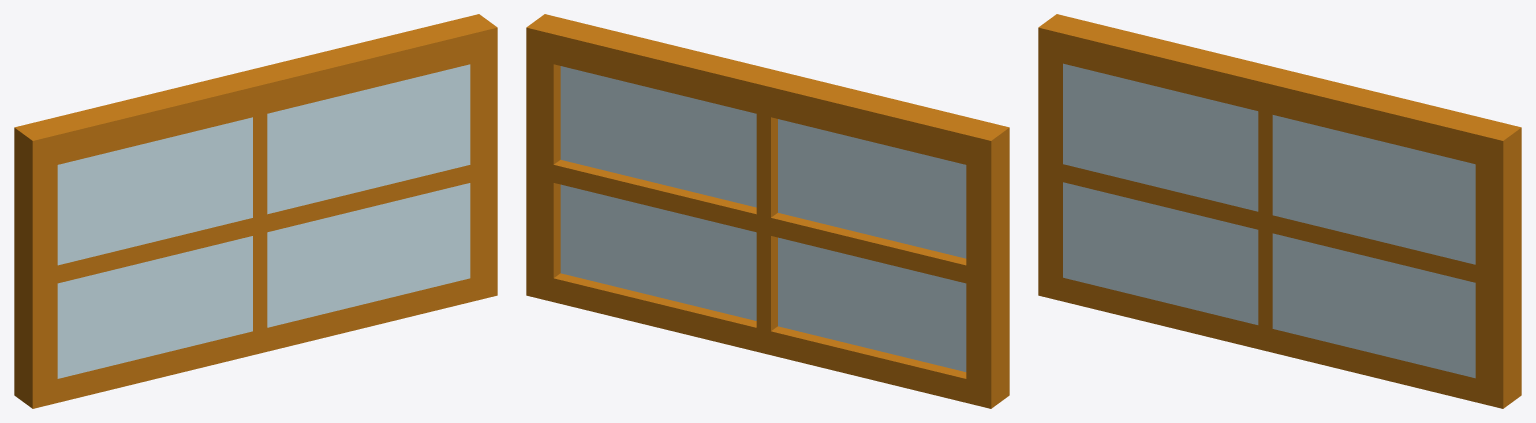
File: ventana5.obj
3 renders of one model, left to right at view 1: azimuth 30°, elevation 25°; view 2: azimuth 150°, elevation 25°; view 3: azimuth 330°, elevation 25°, orthographic.
Visible parts, largest first — view 1: pasted__pCube17 group37; view 2: pasted__pCube17 group37; view 3: pasted__pCube17 group37.
Part boxes in pixels (x1,y1,x2,y2): pasted__pCube17 group37: (14,14,497,408); pasted__pCube17 group37: (526,14,1009,408); pasted__pCube17 group37: (1038,14,1521,408).
Size of the model in its own units: 2.06 by 1.14 by 0.1424.
Materials: 1 (1 with a texture image).
